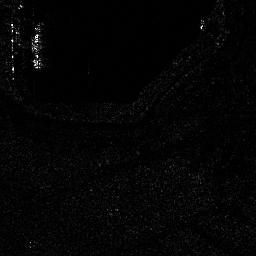ship: (30, 20, 45, 69)
